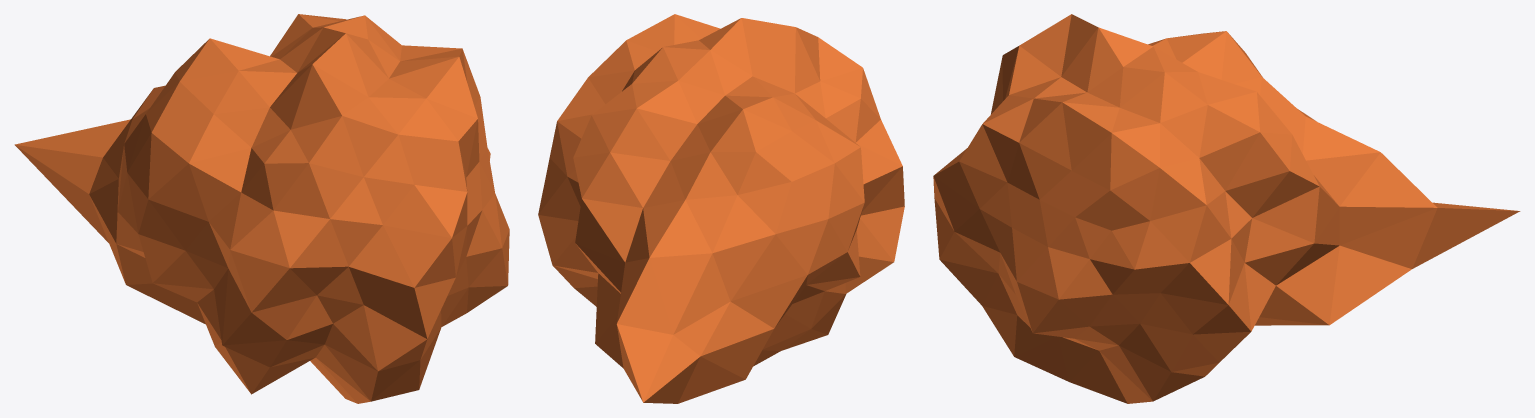
Rendered from Fireball.fbx.
3 views of the same model, side by side, from view 1: azimuth 30°, elevation 25°; view 2: azimuth 150°, elevation 25°; view 3: azimuth 270°, elevation 25° (orthographic). The views are drawn at different scales.
Parts seen in each view (by area): view 1: Fire ball not animated; view 2: Fire ball not animated; view 3: Fire ball not animated.
Boxes of the visible parts, bbox=[...] form: Fire ball not animated: bbox=[14, 14, 509, 403]; Fire ball not animated: bbox=[538, 14, 904, 403]; Fire ball not animated: bbox=[933, 14, 1520, 403].
Size of the model in its own units: 129 by 135 by 204.
